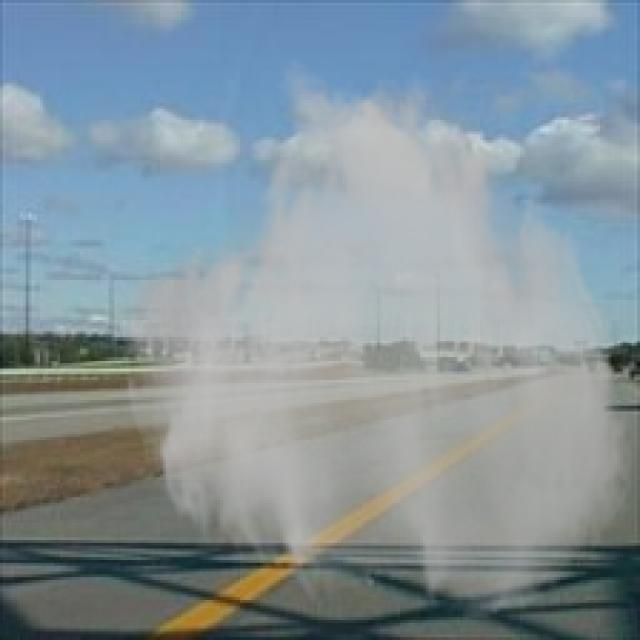Smoke: (120, 57, 637, 623)
